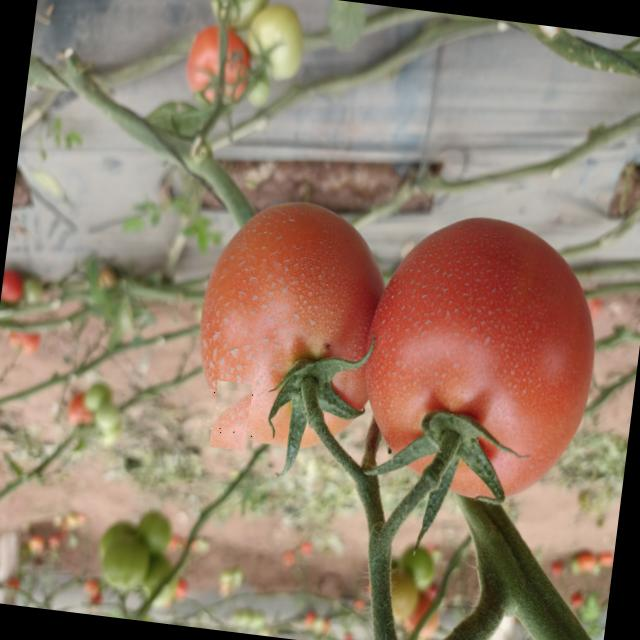Ripe Tomato: (202, 387, 260, 444)
